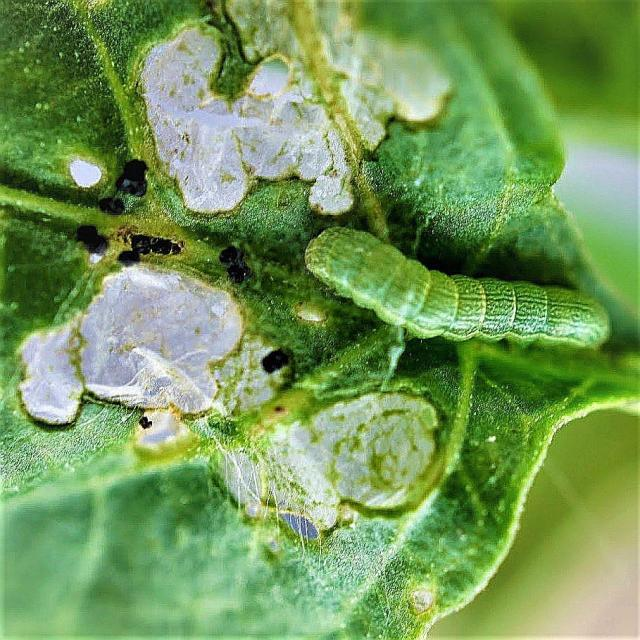Armyworm: (282, 181, 640, 391)
Armyworm_damage: (114, 1, 424, 206), (1, 271, 262, 430), (214, 405, 459, 541)
